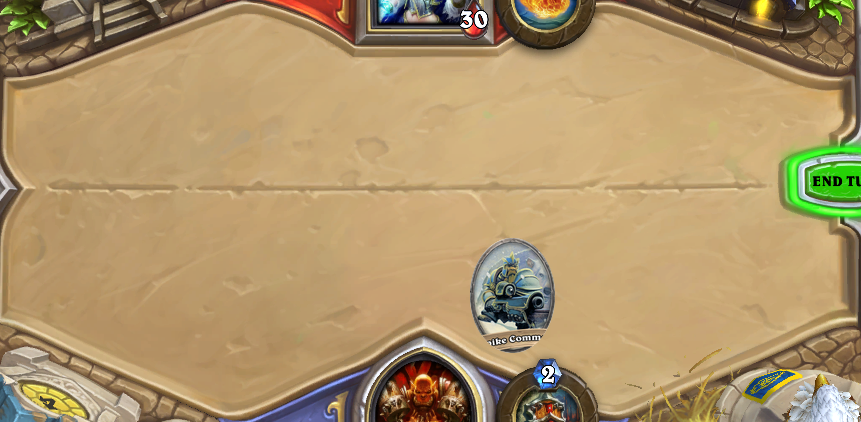CS2_150: (470, 236, 556, 353)
